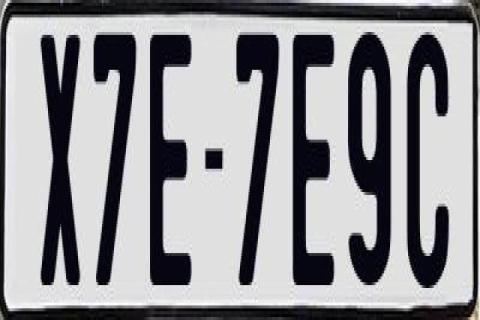0: (348, 32, 392, 300), (234, 35, 278, 288), (92, 27, 134, 286)
C: (406, 26, 454, 294)
E: (148, 32, 196, 285), (292, 32, 336, 296)
X: (40, 26, 88, 288)
